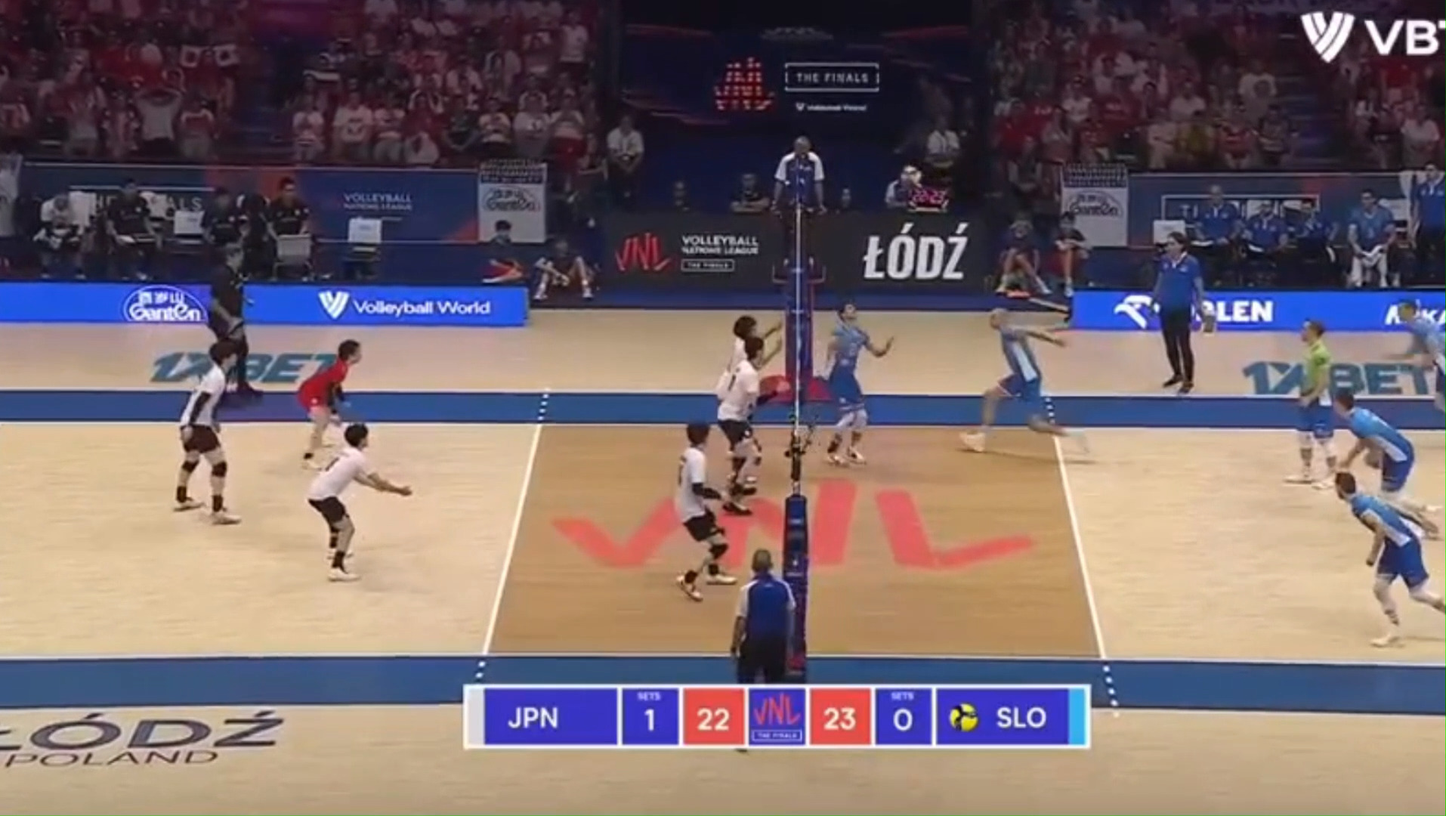ball: (902, 165, 921, 184)
player: (1334, 471, 1445, 647), (961, 308, 1087, 451), (1336, 390, 1432, 516), (827, 304, 892, 465), (1286, 320, 1336, 484), (1395, 299, 1445, 410)
player 1: (306, 423, 411, 581), (175, 341, 239, 524), (673, 423, 736, 600), (716, 336, 764, 515), (298, 339, 360, 462), (716, 317, 756, 399)
referee: (1151, 231, 1212, 394), (731, 549, 796, 683), (773, 137, 825, 286), (209, 243, 258, 398)
